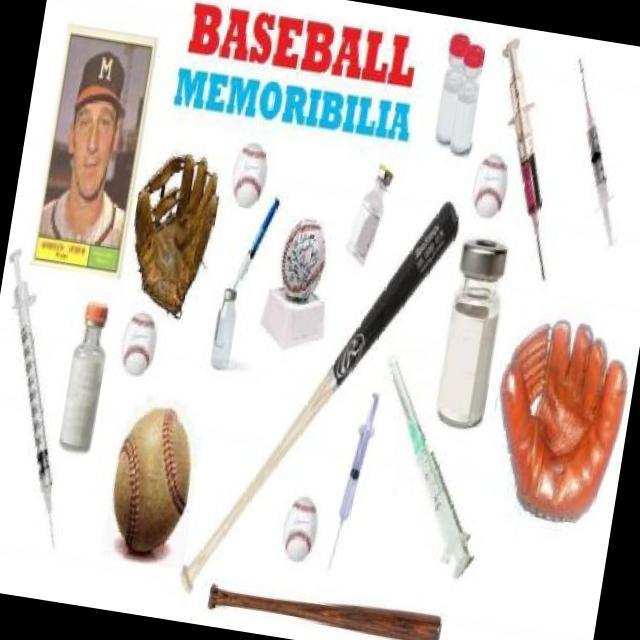-: (96, 408, 202, 561)
